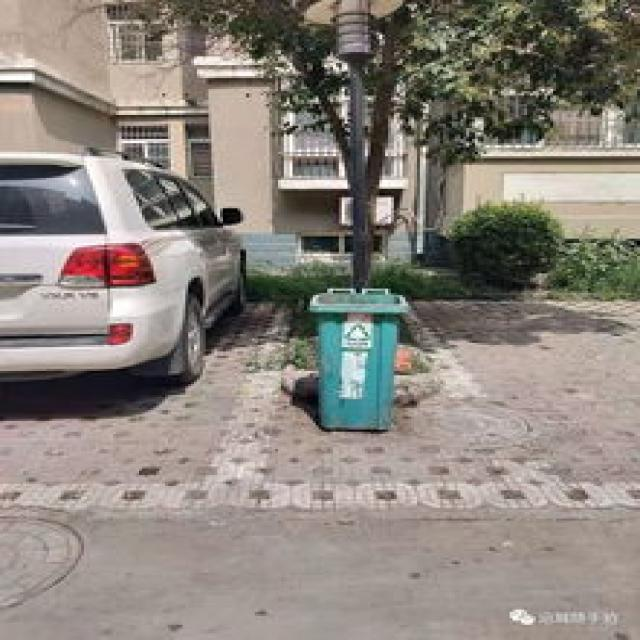garbage_bin: (304, 284, 408, 428)
